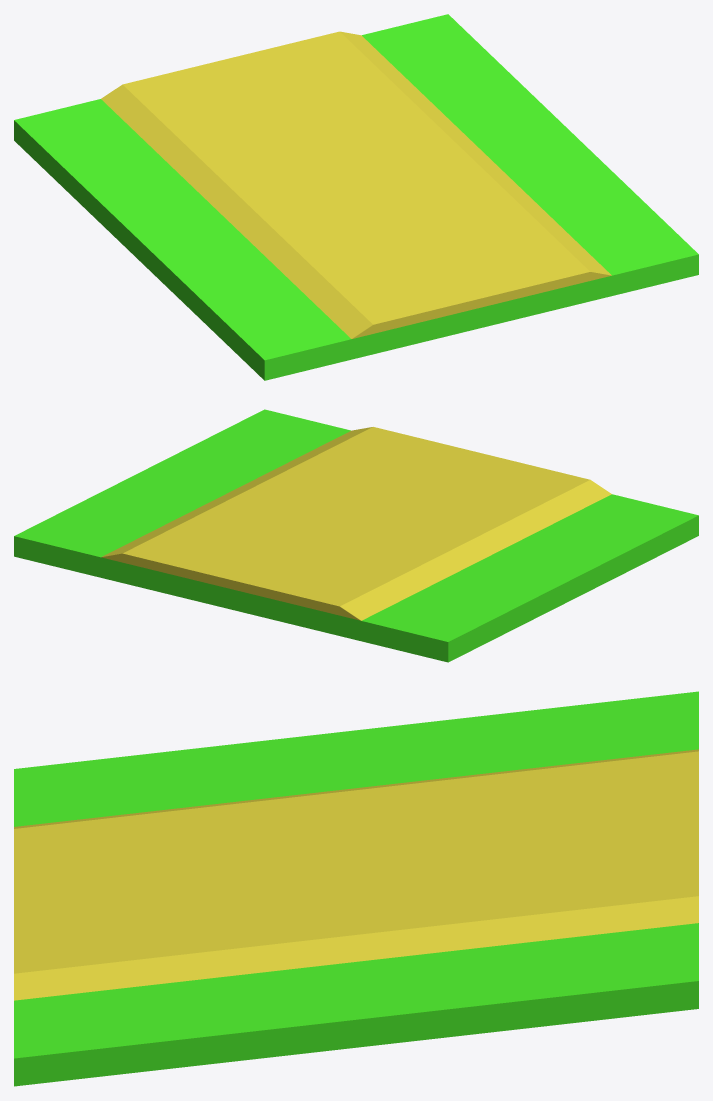
Rendered from world14.fbx.
The picture shows the model from 3 angles, top to bottom: view 1: azimuth 30°, elevation 25°; view 2: azimuth 150°, elevation 25°; view 3: azimuth 270°, elevation 25°; orthographic projection. The views are drawn at different scales.
Visible parts, largest first — view 1: Cube.122, Cube.125; view 2: Cube.122, Cube.125; view 3: Cube.122, Cube.125.
Part boxes in pixels (x1,y1,x2,y2): Cube.122: [101, 31, 611, 338]; Cube.125: [14, 14, 698, 380]; Cube.122: [101, 427, 611, 620]; Cube.125: [14, 409, 698, 662]; Cube.122: [14, 749, 698, 1000]; Cube.125: [14, 691, 698, 1086].
Size of the model in its own units: 400 by 76.04 by 400.
